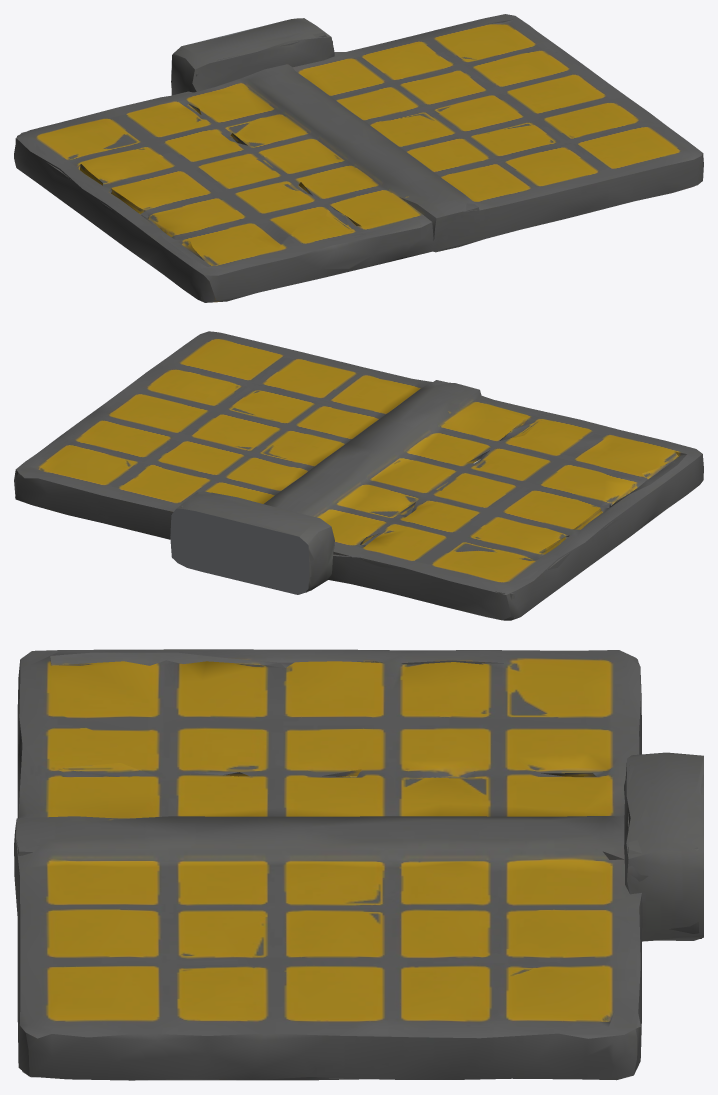
Rendered from solar_farm_mk1.glb.
The picture shows the model from 3 angles, top to bottom: view 1: azimuth 30°, elevation 25°; view 2: azimuth 150°, elevation 25°; view 3: azimuth 270°, elevation 25°; orthographic projection. The views are drawn at different scales.
Parts seen in each view (by area): view 1: part; view 2: part; view 3: part.
Boxes of the visible parts, box(x1,y1,x2,y2) form: part: box(14, 14, 703, 302); part: box(14, 331, 703, 620); part: box(14, 649, 703, 1080).
Bounding box in the file's own units: 8 × 0.9373 × 6.
2 materials, 1 textured.
